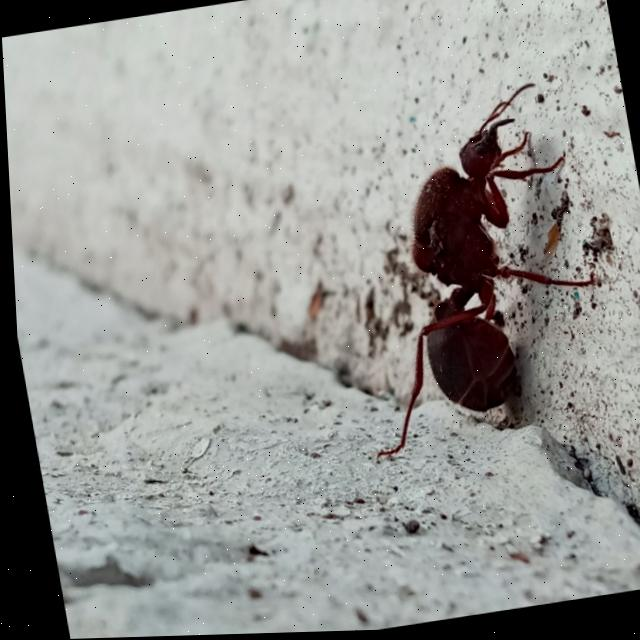Alive-Female-Dealate: (313, 78, 621, 463)
